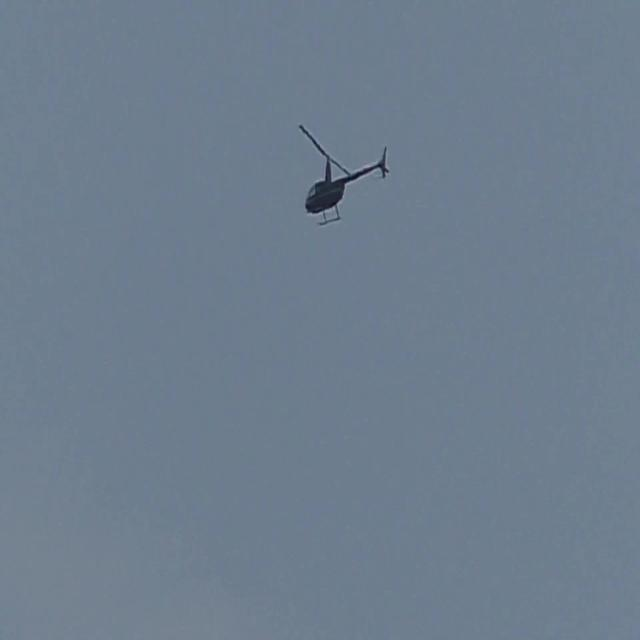CIV_HELO: (303, 144, 390, 228)
